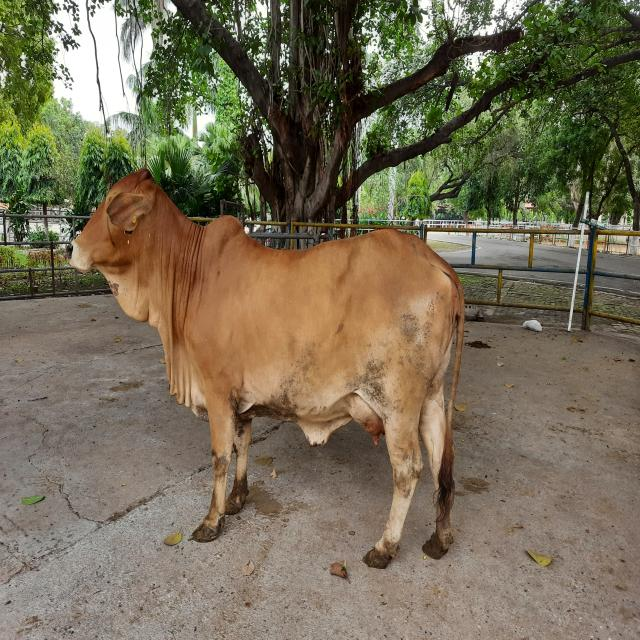cow: (66, 167, 466, 569)
hump: (200, 211, 251, 239)
